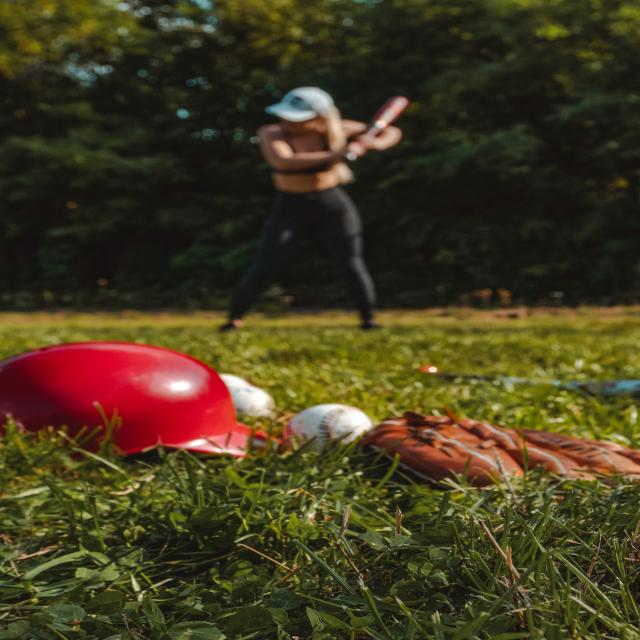adult: (217, 89, 406, 328)
